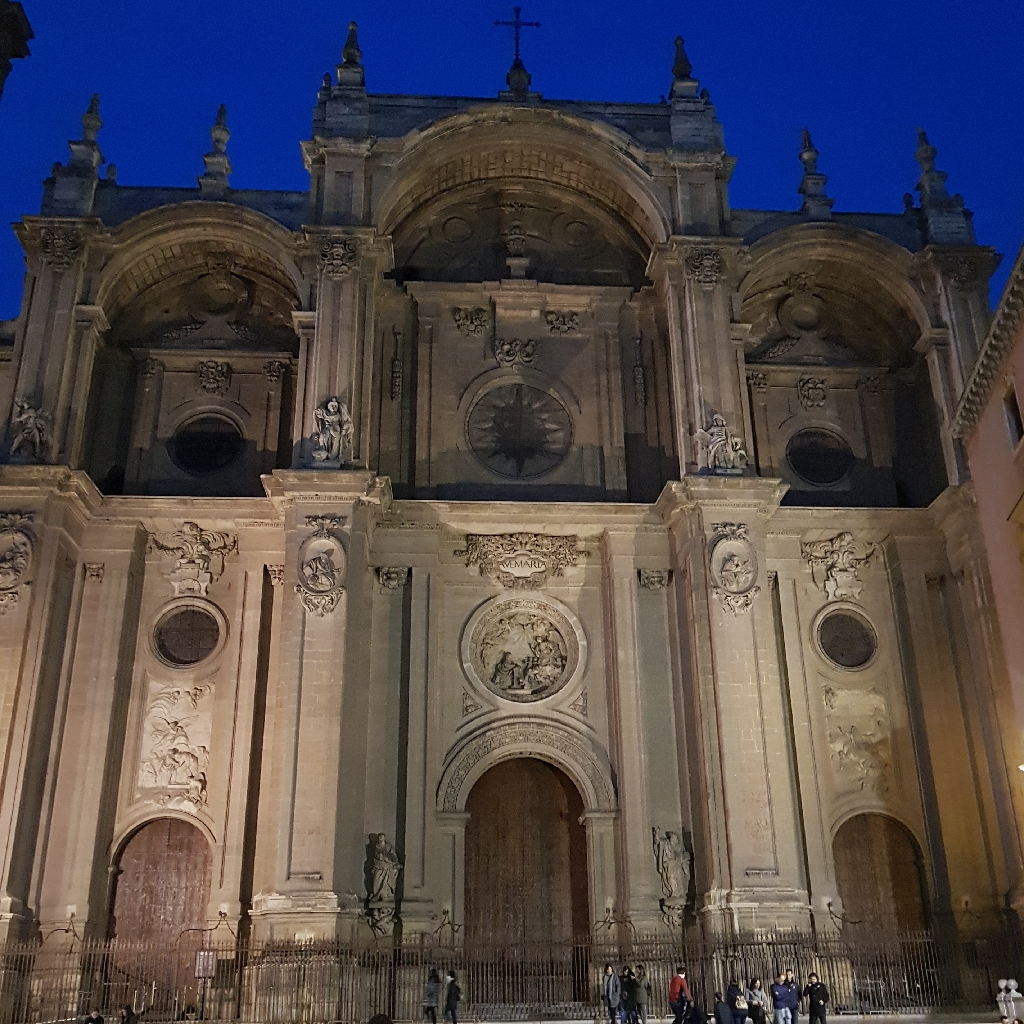arco-medio-punto: (375, 112, 680, 273), (82, 194, 309, 355), (734, 222, 944, 348), (454, 740, 608, 845), (104, 805, 225, 898), (826, 805, 940, 888)
ojo-de-buey: (157, 402, 252, 474), (147, 594, 232, 669), (807, 595, 883, 667), (779, 423, 854, 483)
